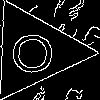O: (10, 26, 56, 73)
